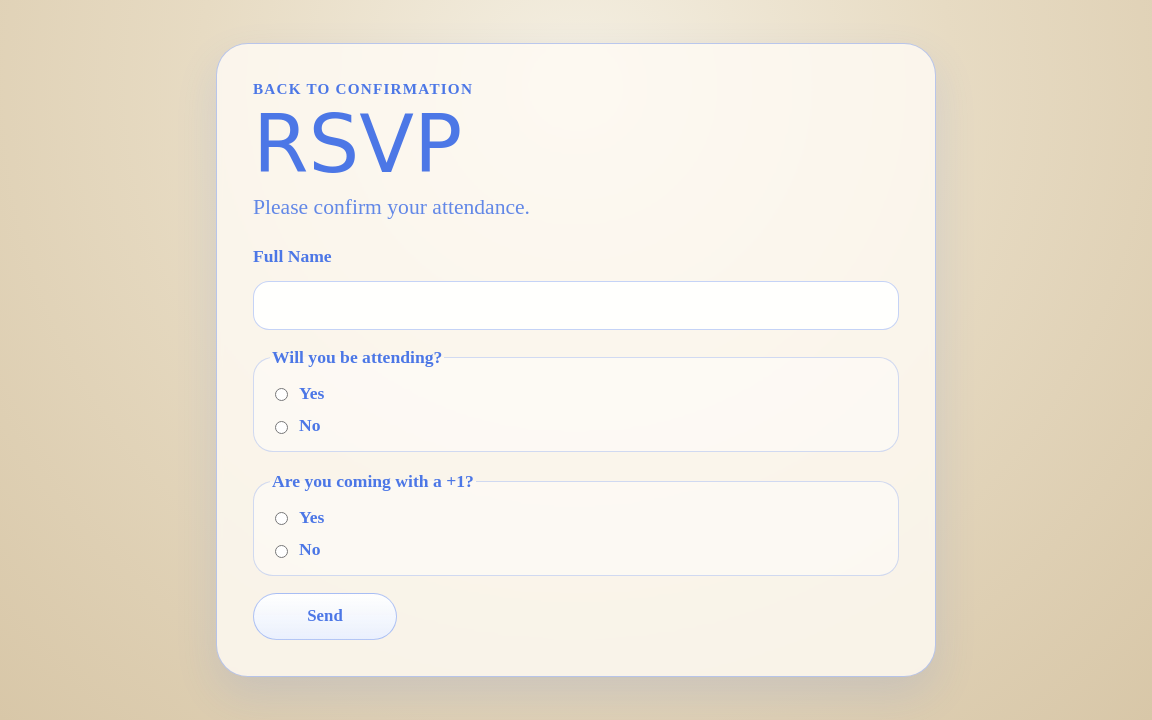
Test case: rsvp page › validates the required RSVP fields before sending
Click the button "Send": (325, 616) 253,593 -> 397,640
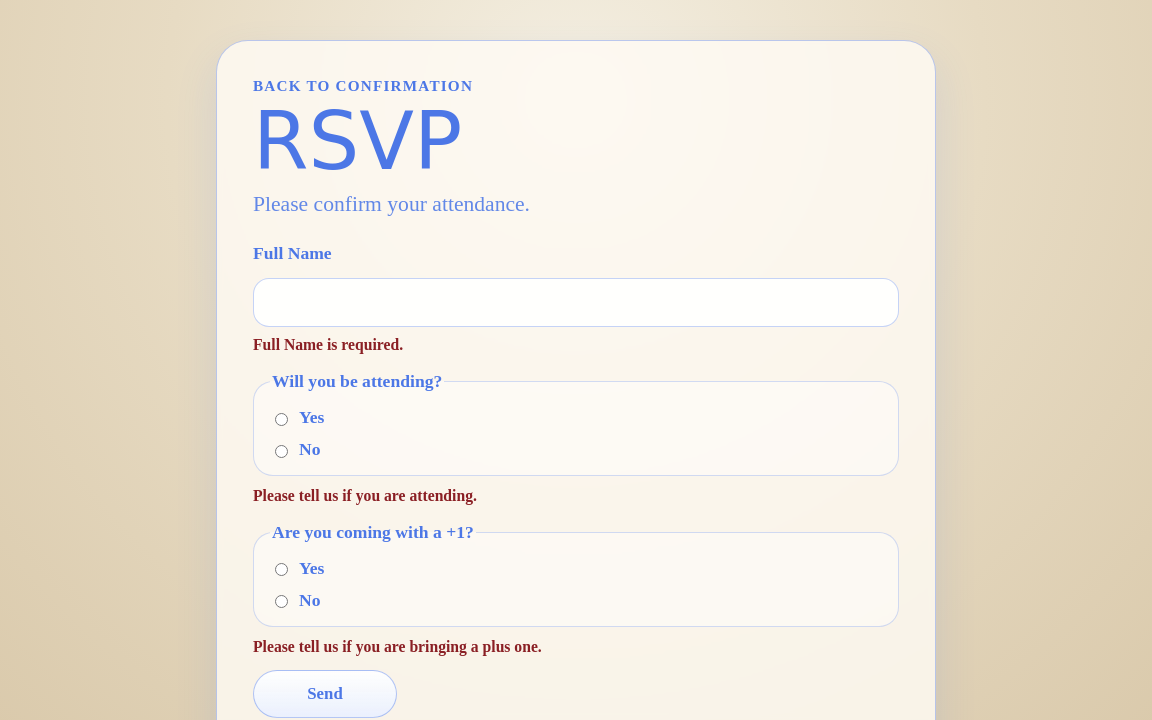
expect the text "Full Name is required." is shown: met, box 253,336 -> 403,353
expect the text "Please tell us if you are attending." is shown: met, box 253,487 -> 477,504
expect the text "Please tell us if you are bringing a plus one." is shown: met, box 253,638 -> 542,655
